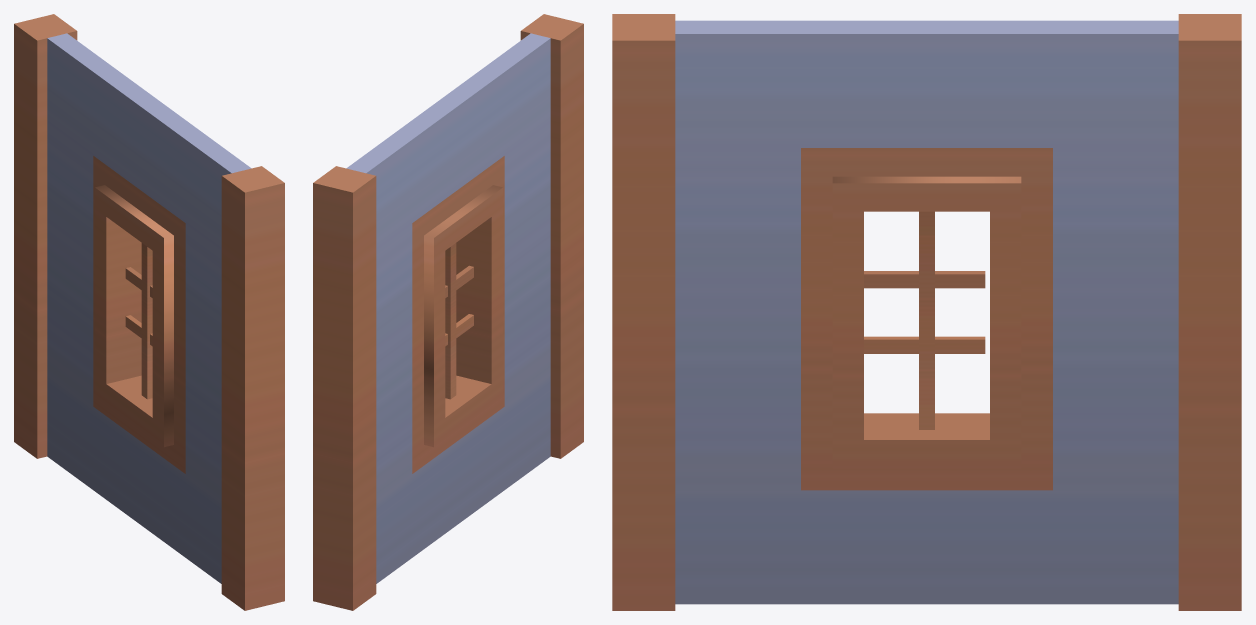
File: wall-window-glass.glb
3 renders of one model, left to right at view 1: azimuth 30°, elevation 25°; view 2: azimuth 150°, elevation 25°; view 3: azimuth 270°, elevation 25°, orthographic. The views are drawn at different scales.
Parts seen in each view (by area): view 1: wall-window-glass; view 2: wall-window-glass; view 3: wall-window-glass.
Boxes of the visible parts, left/top/right/bottom form: wall-window-glass: left=14, top=14, right=284, bottom=610; wall-window-glass: left=313, top=14, right=583, bottom=610; wall-window-glass: left=612, top=14, right=1241, bottom=610.
Bounding box in the file's own units: 0.1 × 1 × 1.
Materials: 1 (1 with a texture image).
